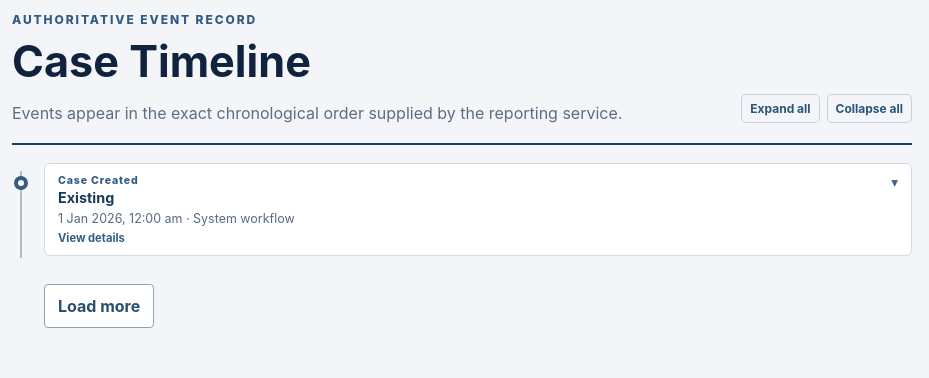
Test: Case Timeline › prevents rapid duplicate cursor requests
The width and height of the screenshot is (929, 378).
Check: the text "Existing" is shown, box 58,189 -> 114,206
Click the button "Load more".
click(99, 306)  # box 44,284 -> 154,328
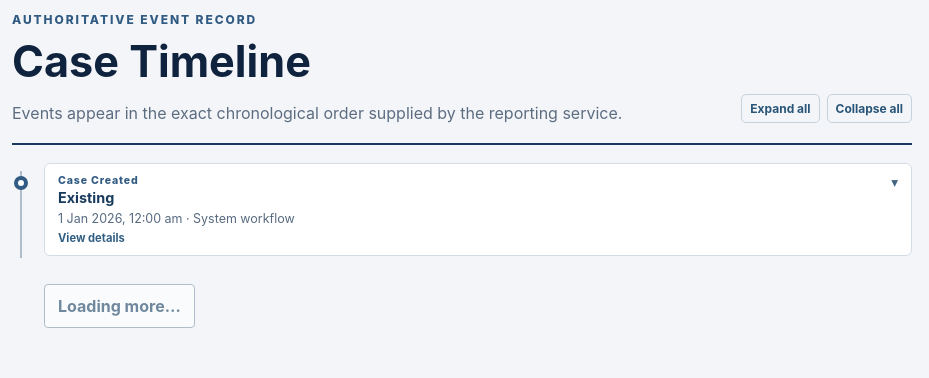
Click the button named "Load more".
click(119, 306)  # box 44,284 -> 195,328
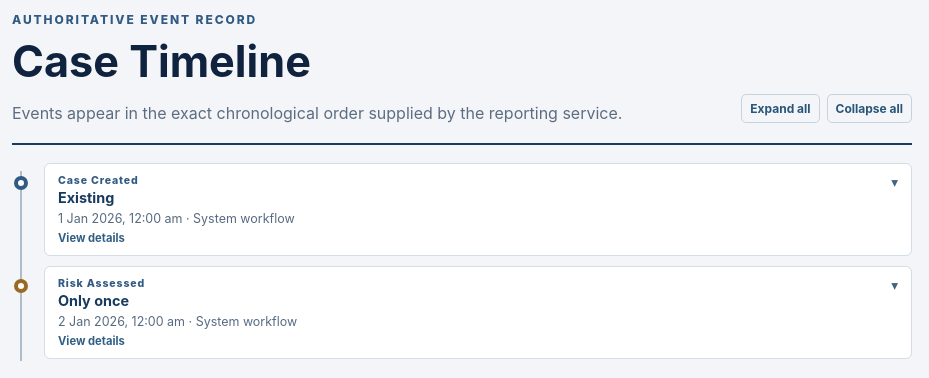
Check: the text "Only once" is shown once, box 58,292 -> 129,309
